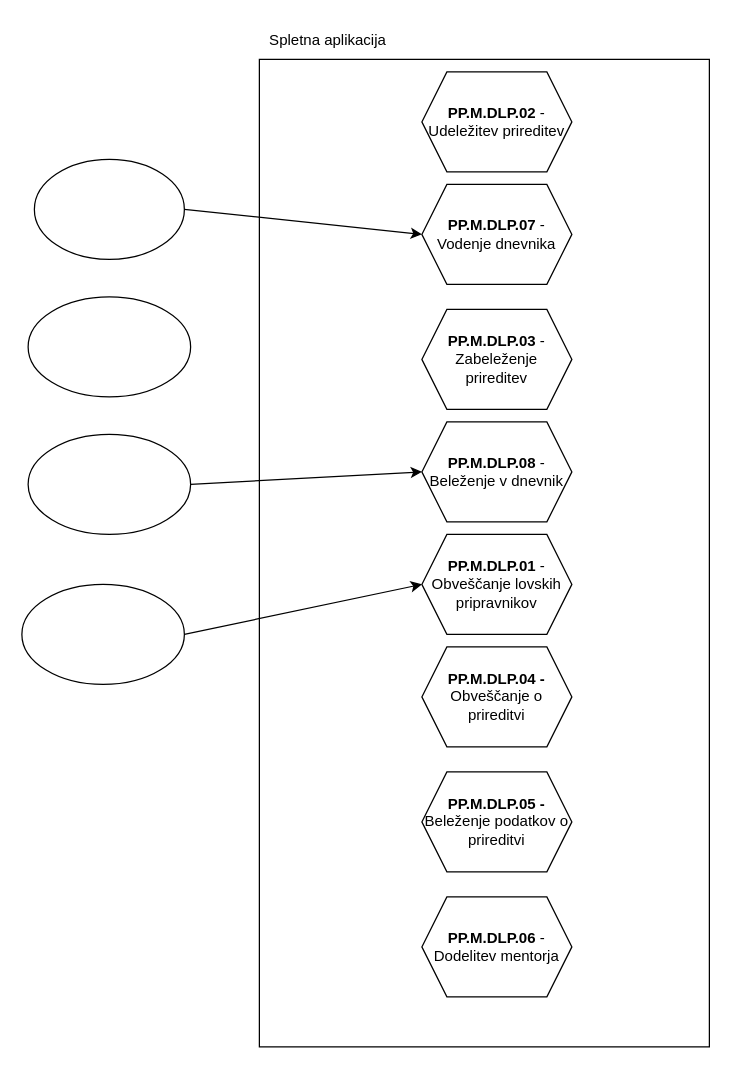
Image size: 731x1069. Some labels were removed from this diagram. The shapes that lost their labels are listed below. From the top down, each one's centre as x and y in pixels, then its label:
point (108, 208): PU.M.DLP-S.VD - Vodenje dnevnika
point (109, 346): PU.M.DLP-S.PD - Pregled dnevnika
point (109, 483): PU.M.DLP-S.PZZD - Potrditev/Zavrnitev zapisov dnevnika
point (102, 633): PU.M.DLP-S.VSO - Vnos in spreminjanje obvestil
